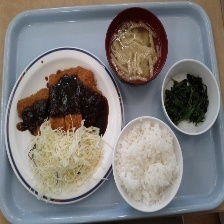rice: (114, 123, 180, 209)
